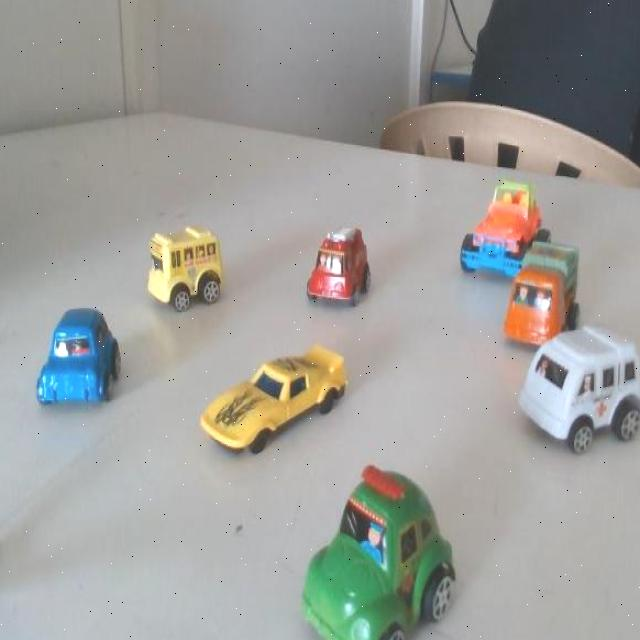car: (274, 457, 475, 640), (504, 303, 640, 479), (200, 334, 347, 468), (448, 170, 536, 280), (142, 223, 233, 328), (34, 307, 117, 415), (304, 214, 382, 324), (507, 232, 577, 354)
